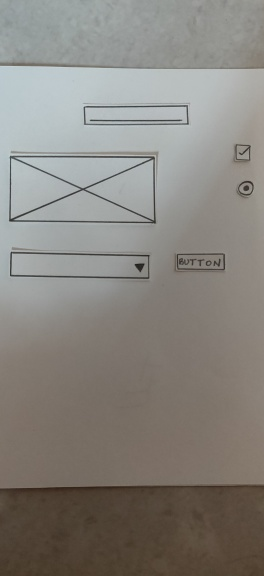button: (172, 251, 228, 275)
checkbox: (233, 141, 253, 164)
dropdown: (7, 247, 152, 284)
img: (6, 152, 159, 227)
radio: (235, 179, 256, 198)
text: (81, 101, 191, 129)
